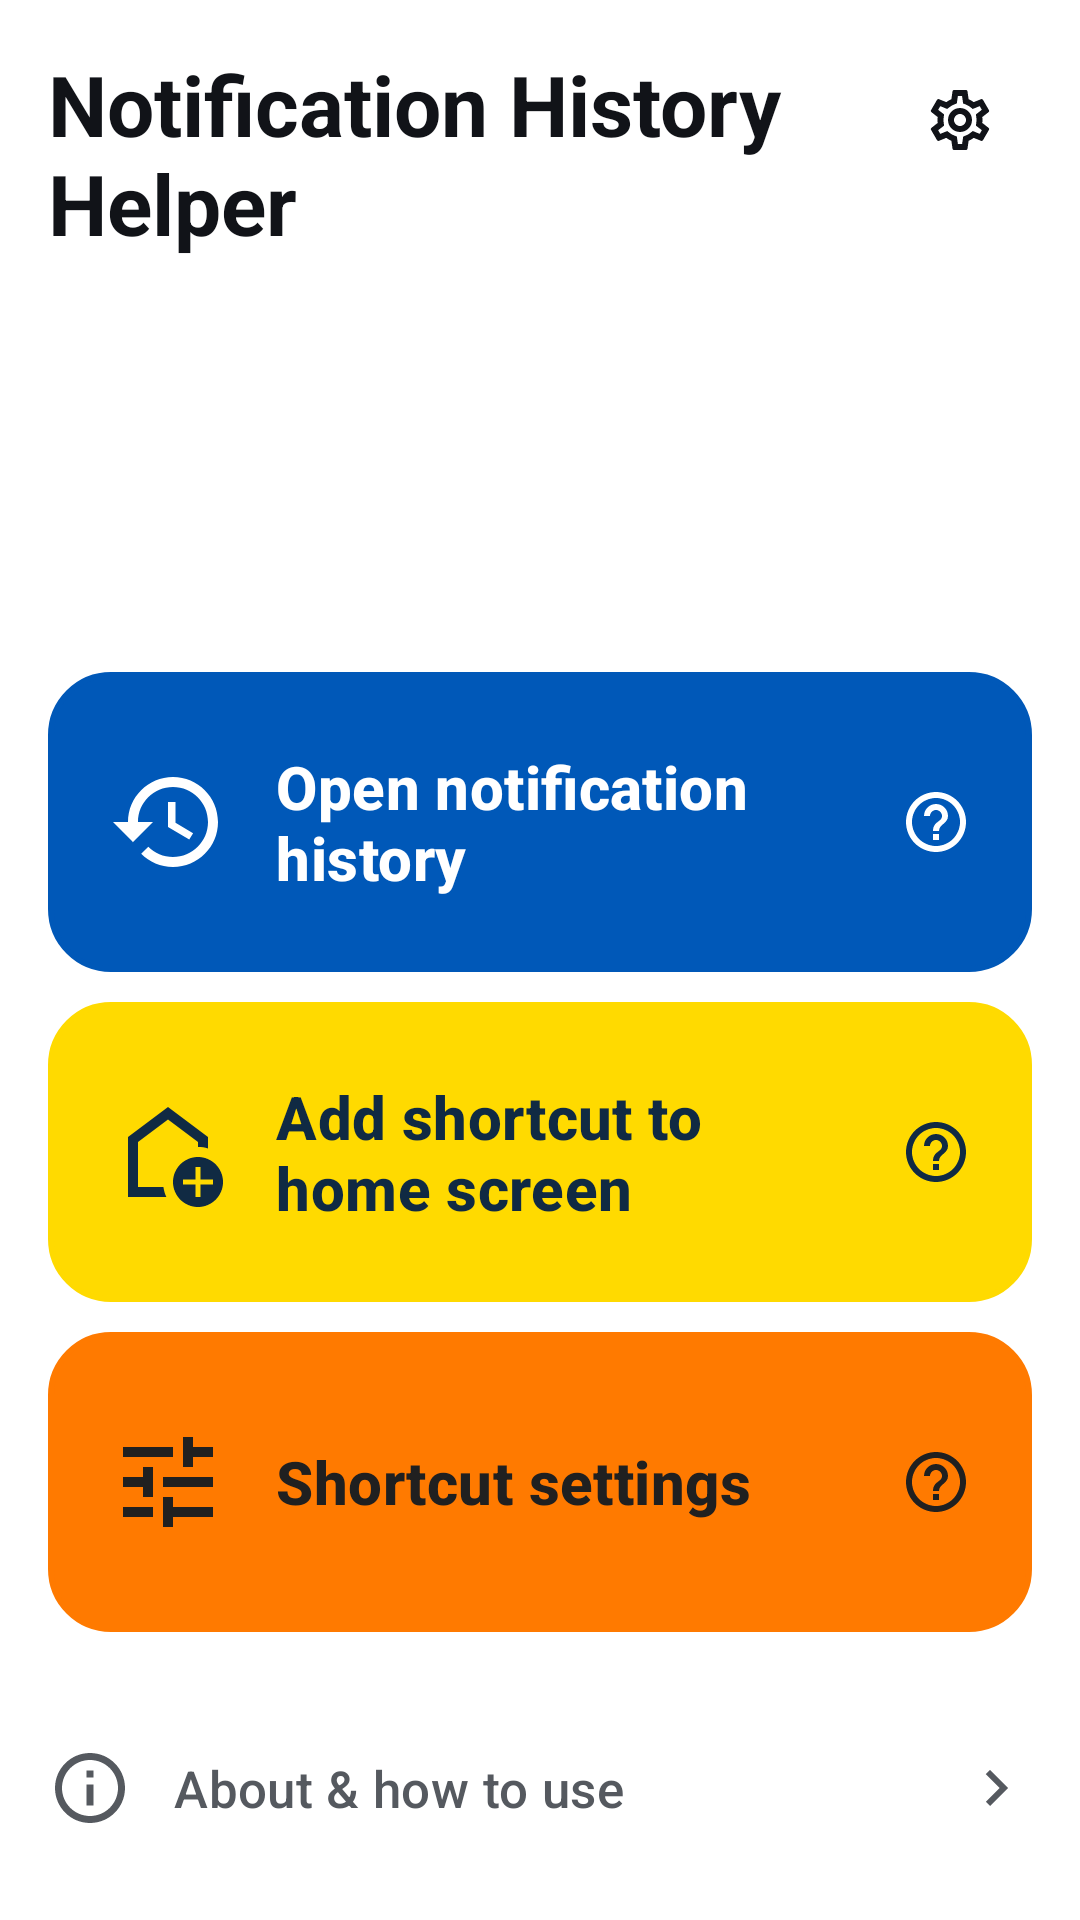

Icon bounding boxes for this 1080px x 1920px phone screenshot, format (x1, y1, x2, y2):
chevron right: (986, 1770, 1008, 1806)
Settings: (930, 90, 989, 150)
